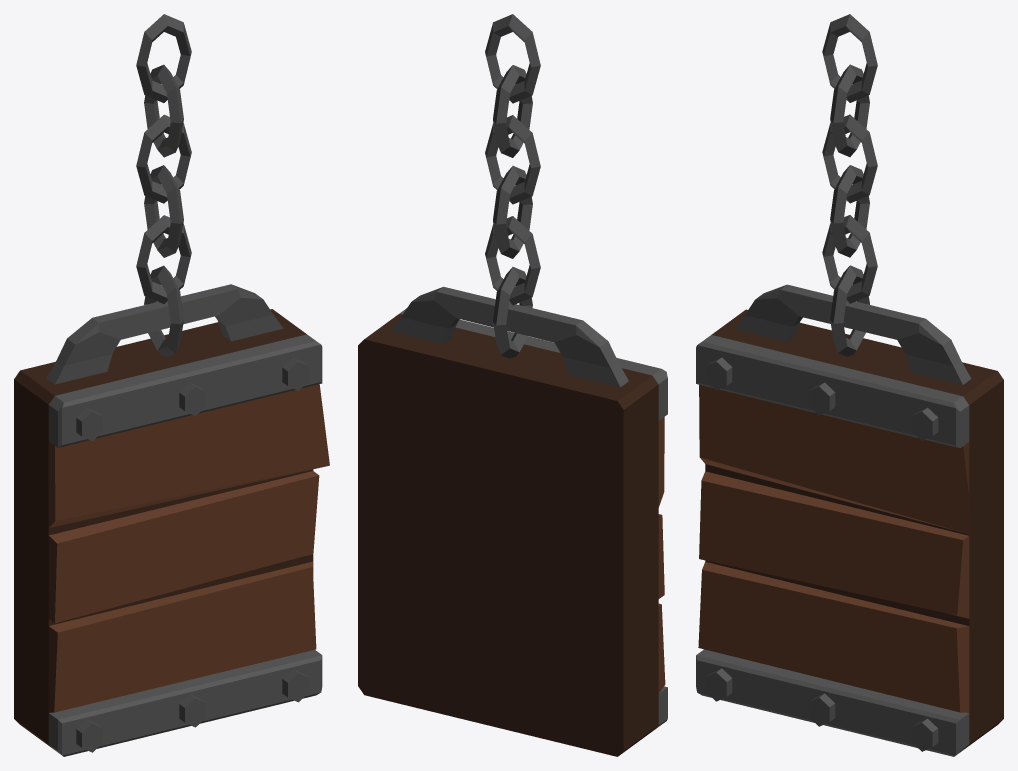
The model's file is UI_Inventory.fbx.
3 renders of one model, left to right at view 1: azimuth 30°, elevation 25°; view 2: azimuth 150°, elevation 25°; view 3: azimuth 330°, elevation 25°, orthographic.
Visible parts, largest first — view 1: Cube.003; view 2: Cube.003; view 3: Cube.003.
Boxes of the visible parts, left/top/right/bottom form: Cube.003: left=14, top=14, right=329, bottom=756; Cube.003: left=358, top=14, right=667, bottom=756; Cube.003: left=696, top=14, right=1003, bottom=756.
Bounding box in the file's own units: 134 × 322 × 42.85.
